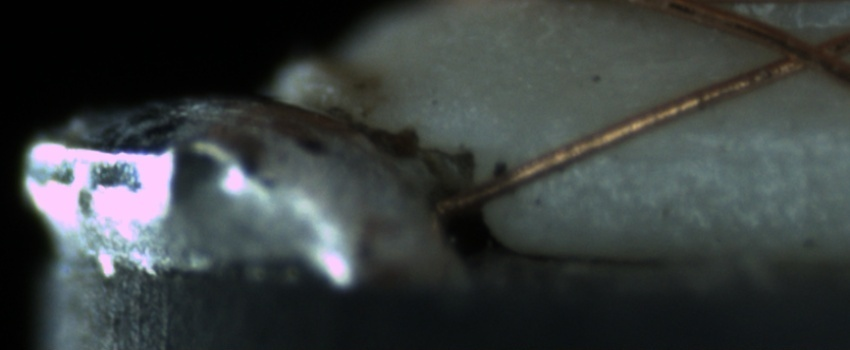CL: (759, 21, 844, 80)
DL: (609, 115, 850, 181)
